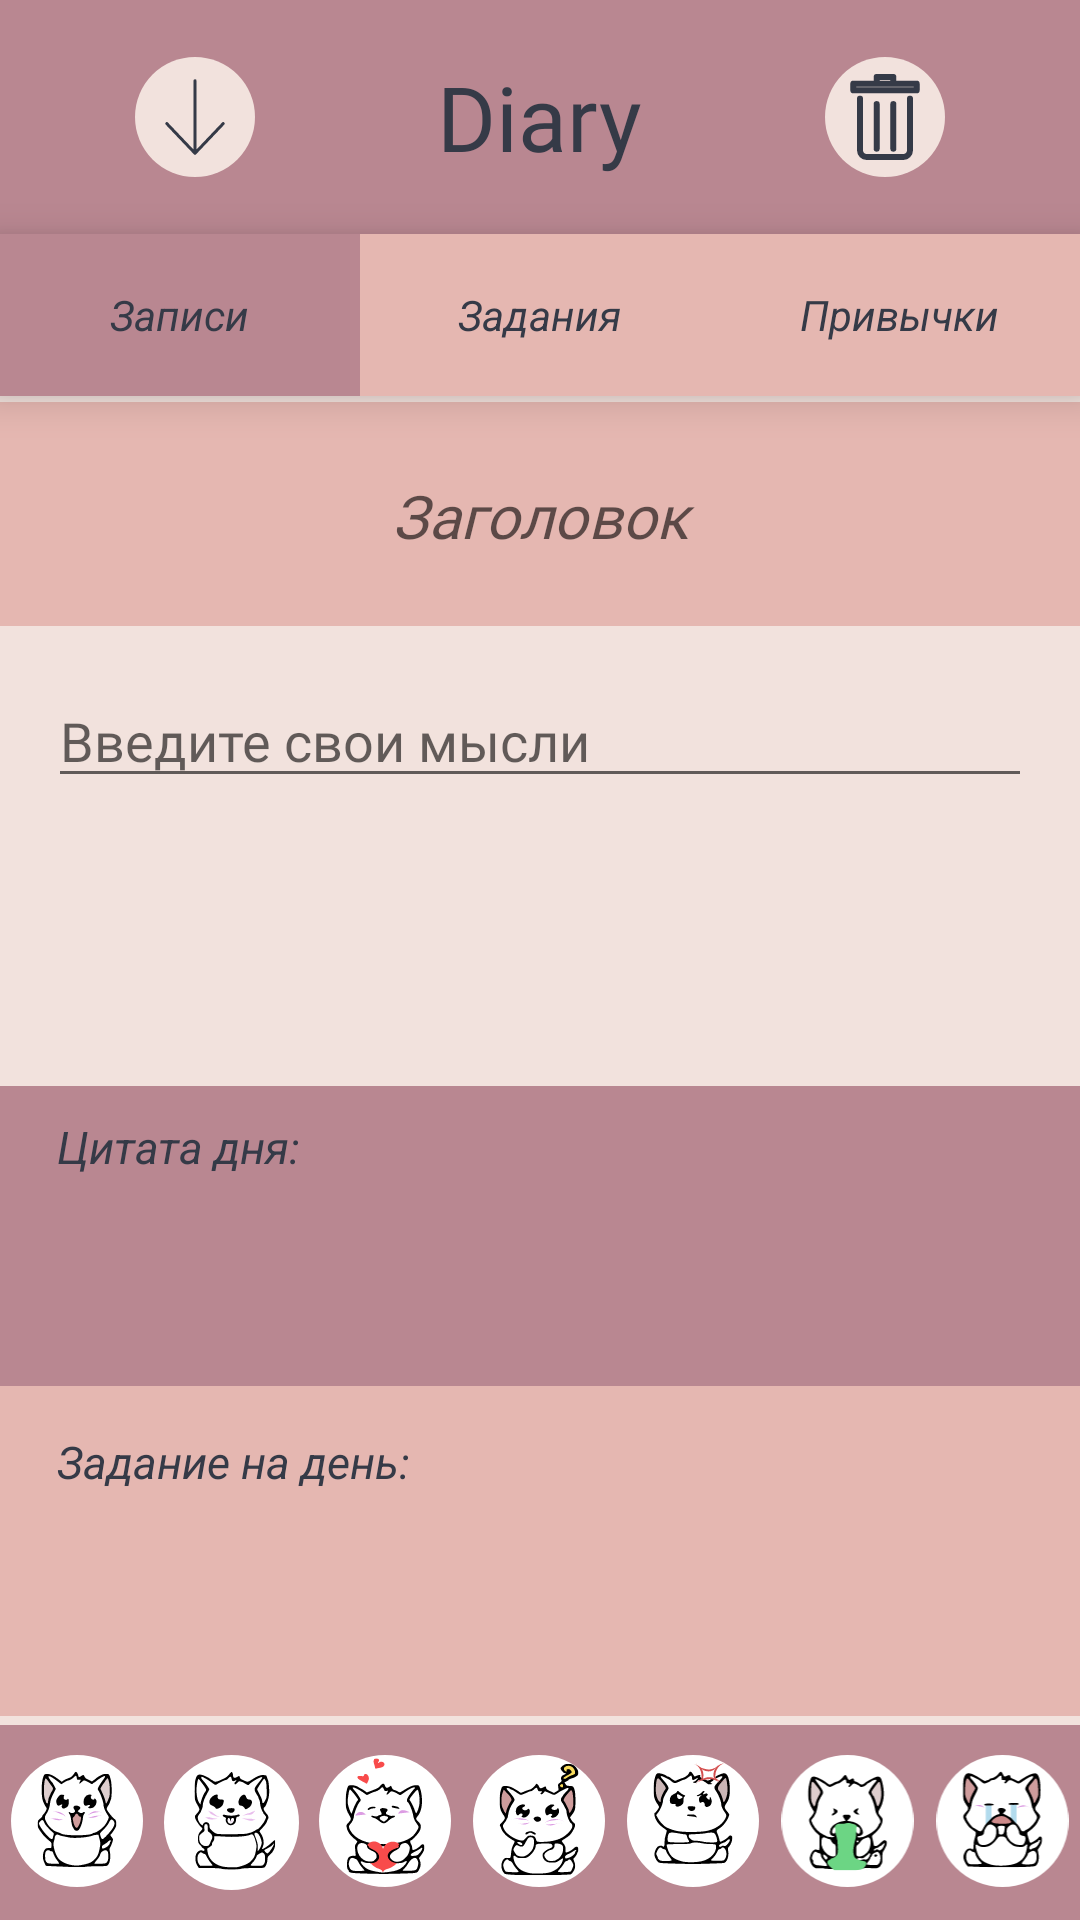

Point at icon controls on the screen. Image size 1080w x 1920h, points as point (x, y).
angry: point (693, 1821)
cry: point (1002, 1821)
delete: point (885, 117)
happy: point (77, 1821)
love: point (385, 1821)
nice: point (231, 1822)
save: point (195, 117)
